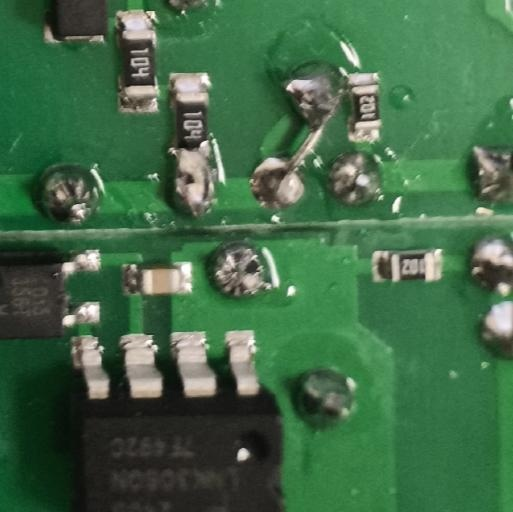chip-capacitor: (120, 260, 196, 298)
chip-resistor: (113, 7, 161, 116), (169, 68, 217, 163), (347, 67, 385, 144), (368, 248, 447, 284)
ic: (65, 330, 288, 512), (0, 249, 104, 334)
